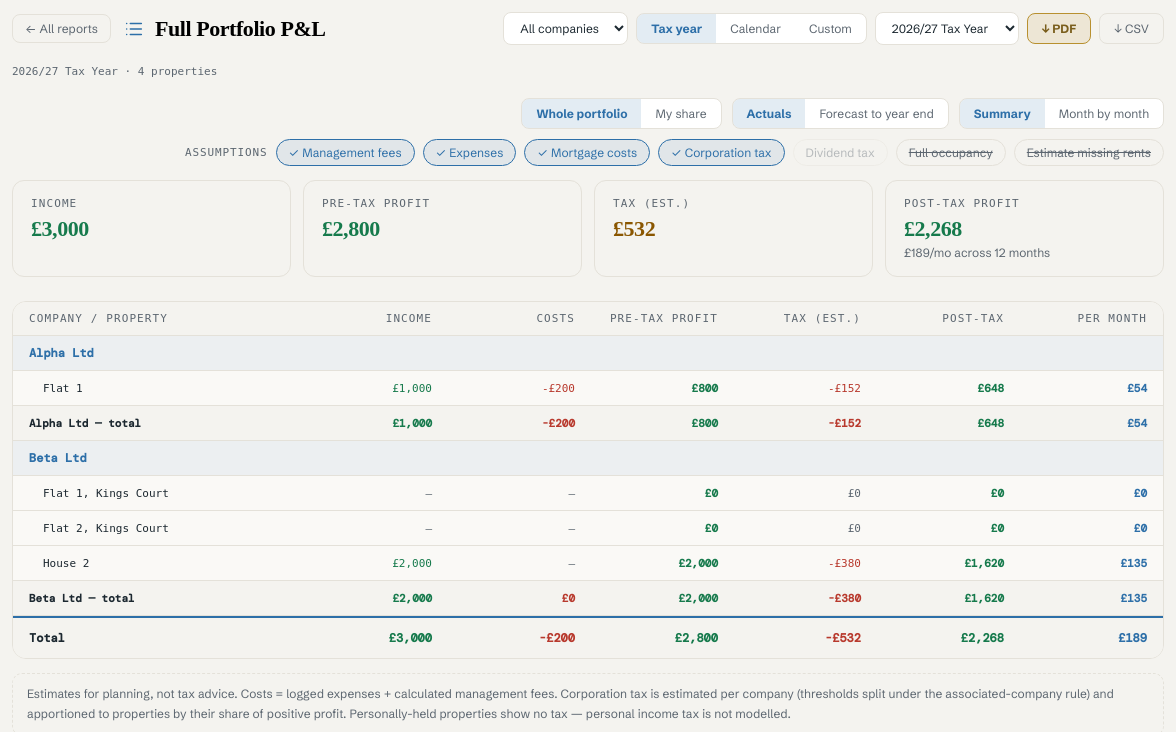
Test: Full Portfolio P&L report › scales to the viewer's shareholding via the My share toggle
expect the text "Alpha Ltd — total" is shown: met, box [29,416,141,430]
Click the button "My share" at (681, 114), box [642,99,720,128]
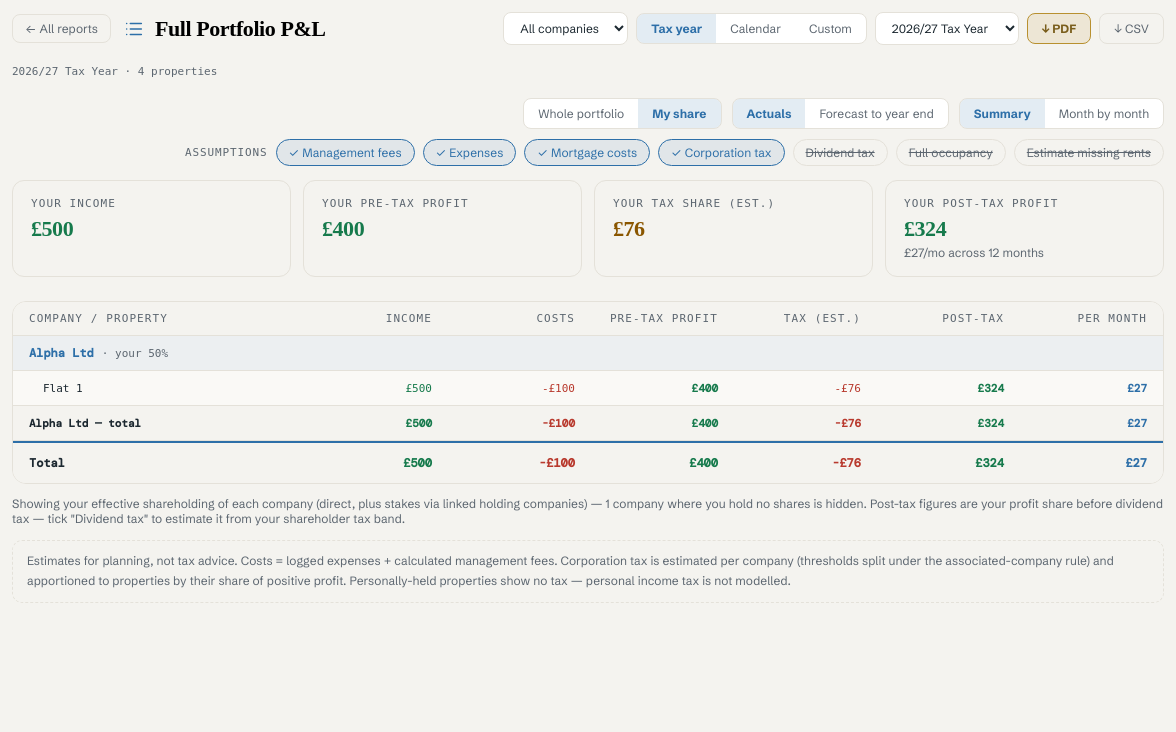
expect the text "· your 50%" is shown: met, box [102,347,168,360]
expect the text "£400" below "Your pre-tax profit" is shown: met, box [322,216,364,241]
expect the text "Beta Ltd — total" is gone: met
Click the button "Whole portfolio" at (581, 114), box [524,99,638,128]
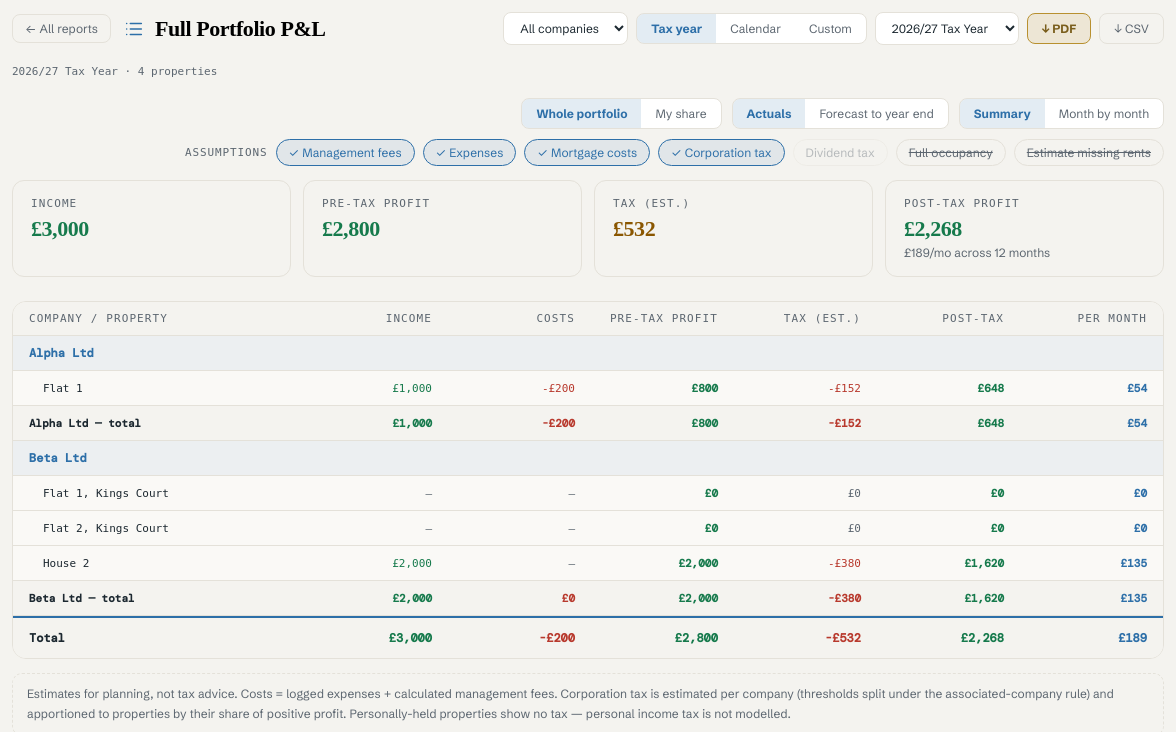
expect the text "Beta Ltd — total" is shown: met, box [29,591,135,605]
